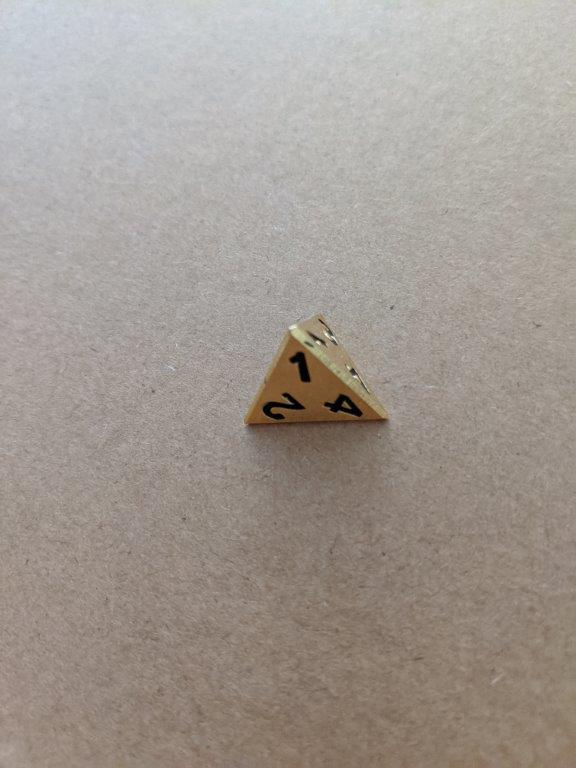d4-1: (240, 308, 389, 433)
